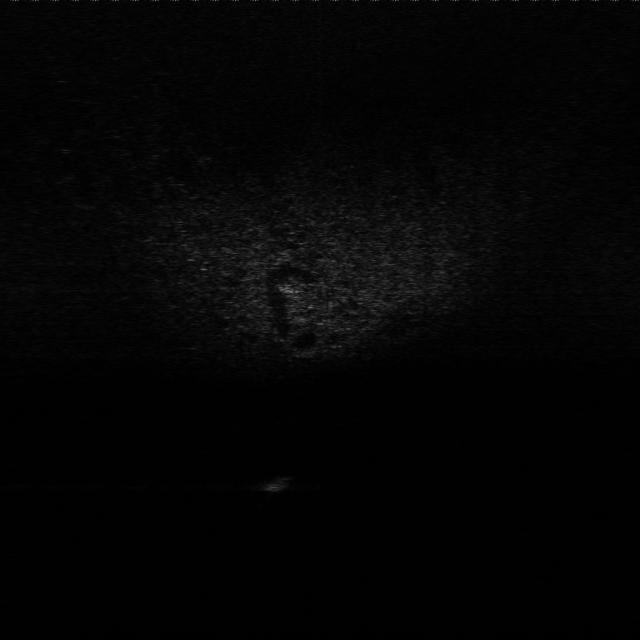cylinder: (262, 472, 292, 494)
